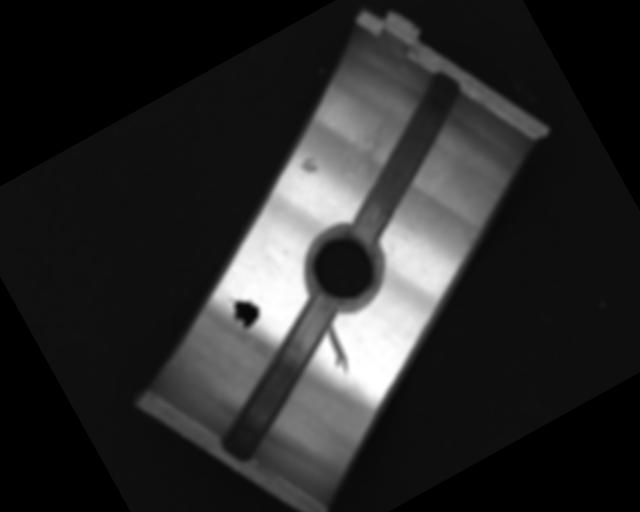blot: (221, 286, 266, 333)
bruise: (292, 153, 321, 181)
gap: (305, 65, 506, 249), (183, 292, 375, 464)
hole: (290, 217, 397, 323)
nick: (317, 324, 357, 376)
scratch: (328, 101, 424, 193)
